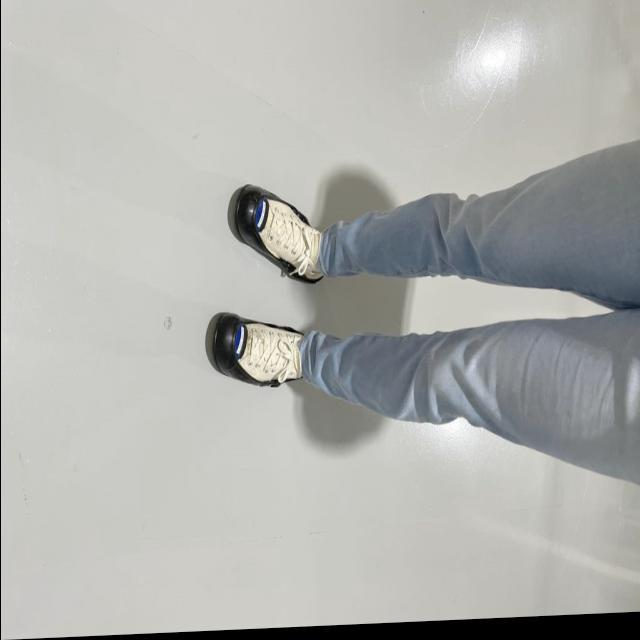shoes: (222, 183, 332, 287), (209, 305, 316, 398)
